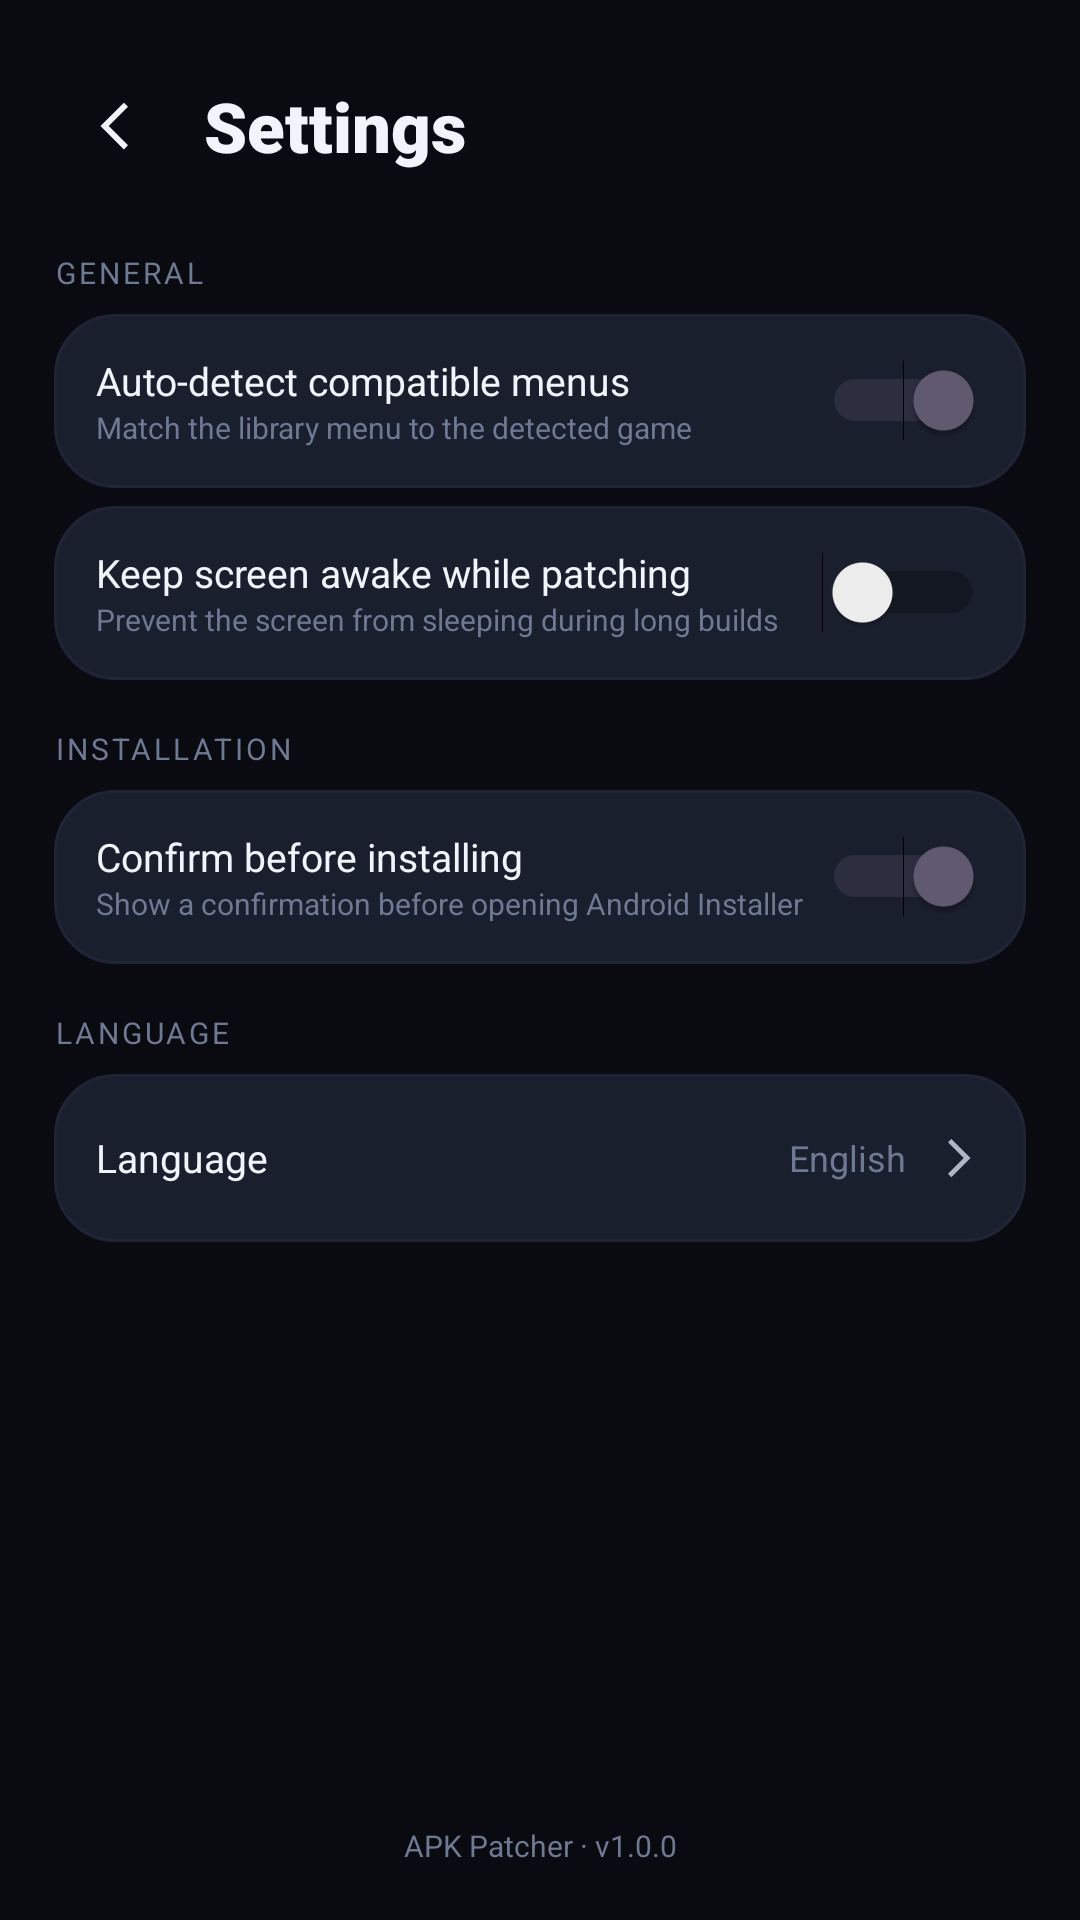

Icon bounding boxes for this 1080px x 1920px phone screenshot, format (x1, y1, x2, y2):
back: (100, 103, 128, 150)
